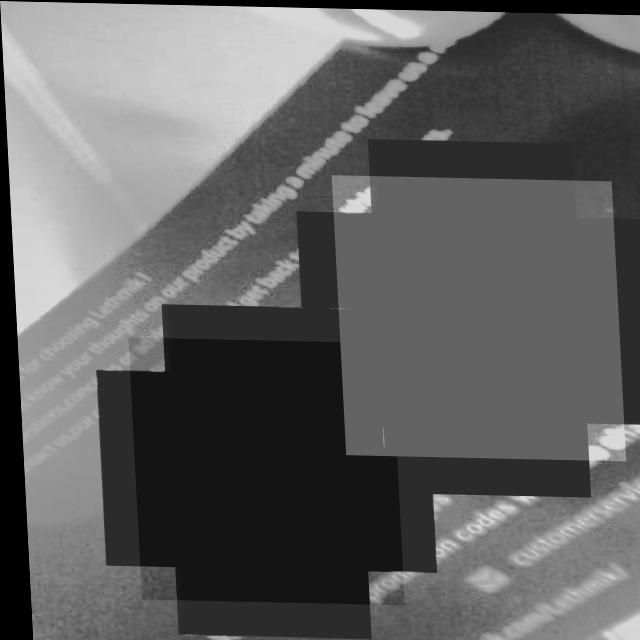qr_code: (330, 173, 621, 458), (125, 336, 398, 603)
